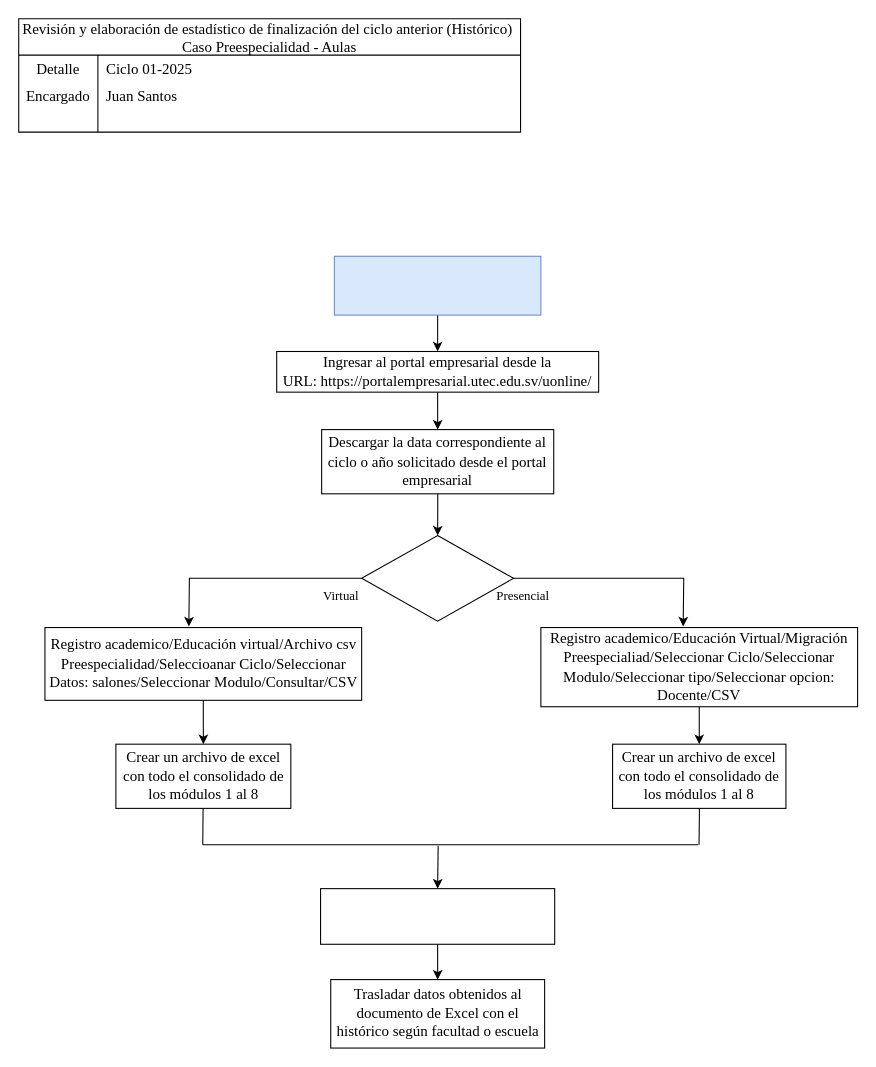
The diagram is 876 pixels wide and 1067 high, and some of its shapes have lost their labels. Each missing label, with the centre of its shape:
"Contabilizar datos de aulas" belongs at (437,916).
"Revisión y elaboración de estadístico de finalización del ciclo anterior" belongs at (437,285).
"Virtual o Presencial?" belongs at (437,577).
